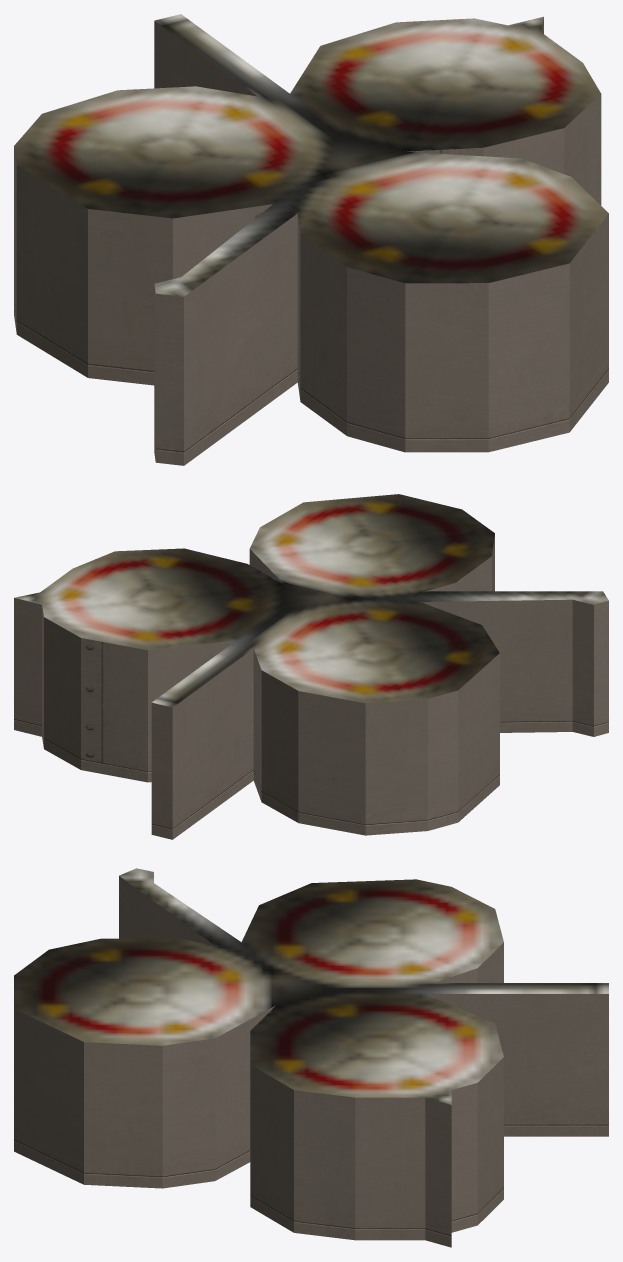
Rendered from fuel_tank_light_19.glb.
3 views of the same model, one above another, from view 1: azimuth 30°, elevation 25°; view 2: azimuth 150°, elevation 25°; view 3: azimuth 270°, elevation 25° (orthographic). The views are drawn at different scales.
Visible parts, largest first — view 1: buildings/saxarba/fuel_tanks/fuel_tank_light_19; view 2: buildings/saxarba/fuel_tanks/fuel_tank_light_19; view 3: buildings/saxarba/fuel_tanks/fuel_tank_light_19.
Part boxes in pixels (x1,y1,x2,y2): buildings/saxarba/fuel_tanks/fuel_tank_light_19: (14, 14, 608, 465); buildings/saxarba/fuel_tanks/fuel_tank_light_19: (14, 494, 608, 839); buildings/saxarba/fuel_tanks/fuel_tank_light_19: (14, 868, 608, 1247).
Size of the model in its own units: 64 by 18 by 68.
